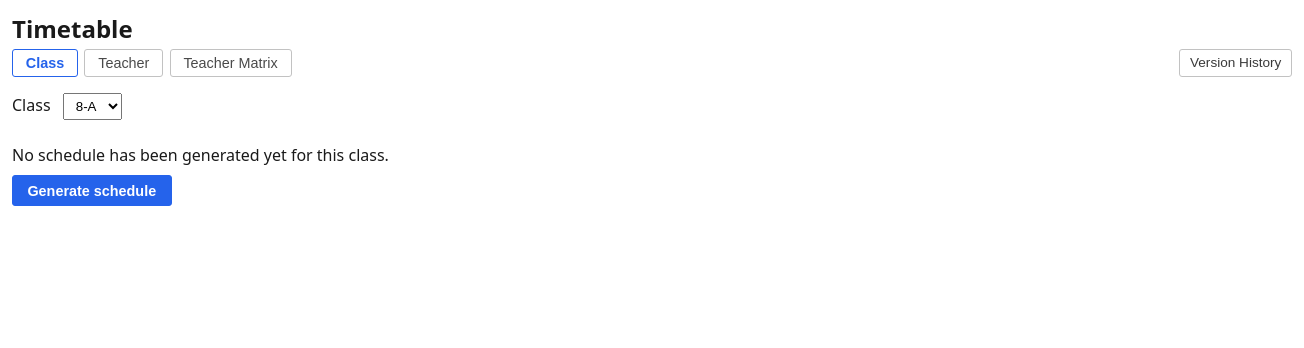
Test: Schedule generation › [B] clicking Generate issues the exact POST with no signal/body arguments beyond school/year
The image size is (1304, 348).
Click the button "Generate schedule". click: (92, 191)
box: [12, 175, 172, 206]
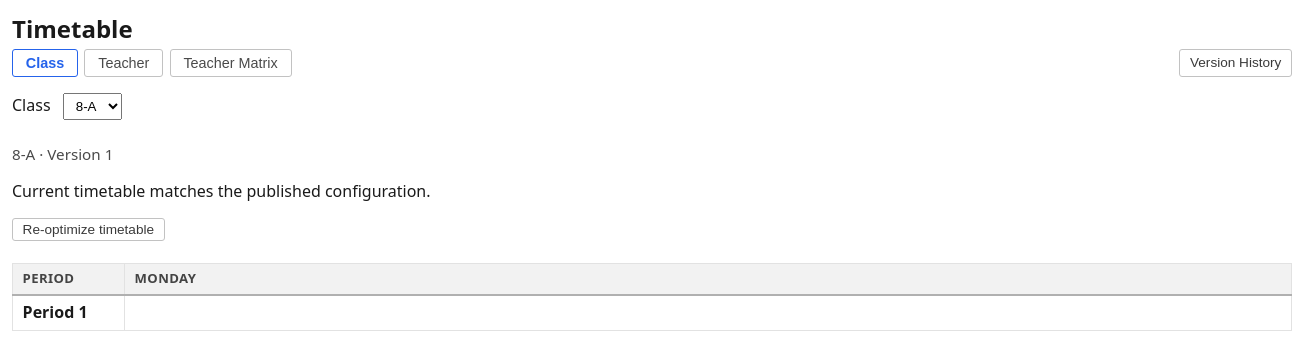
Expected: the table is shown, [12, 263, 1292, 331]
